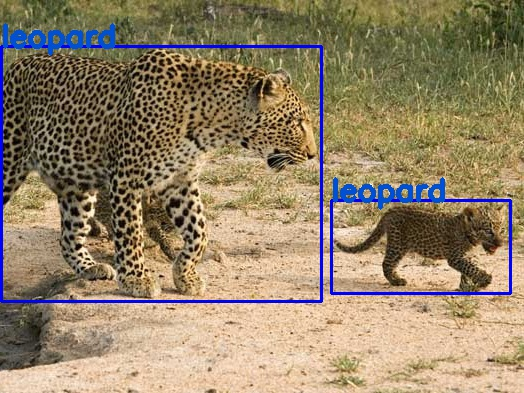leopard: (1, 46, 321, 301), (331, 199, 510, 292)
